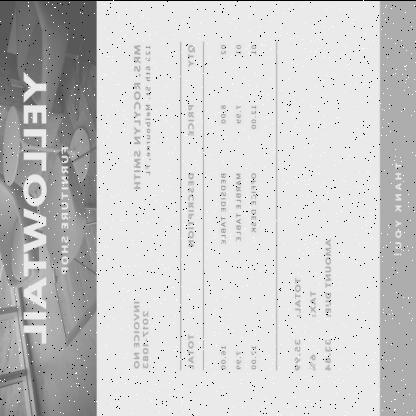Paragraph: (22, 69, 70, 345), (291, 233, 334, 374), (132, 42, 152, 190), (130, 298, 151, 370), (394, 159, 404, 258)
Table: (180, 39, 276, 373)
